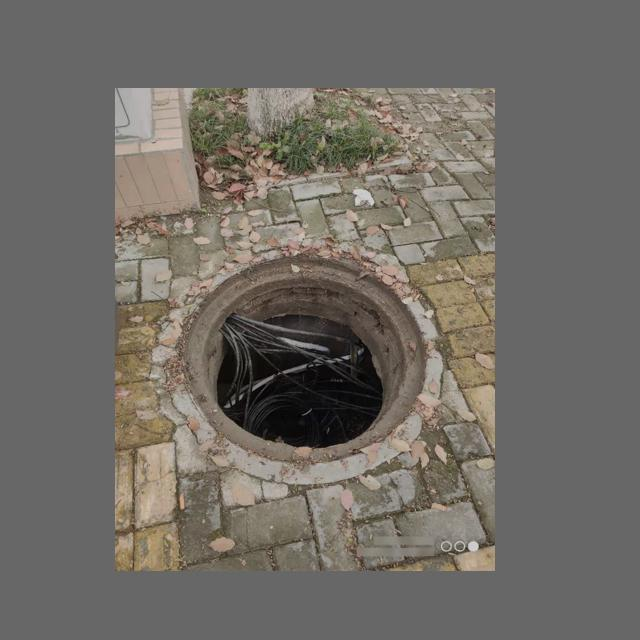lose: (182, 241, 447, 471)
